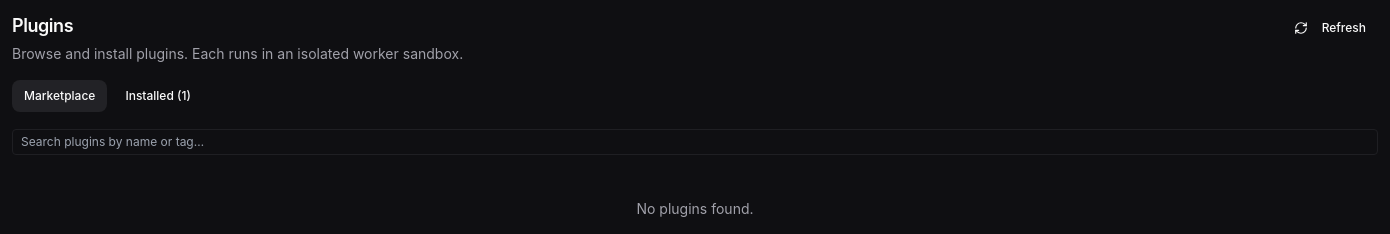
Installed tab lists installed plugins and supports uninstall
This screenshot has width=1390, height=234.
Click the button "Installed (1)" at (158, 96), box [113,80,203,112]
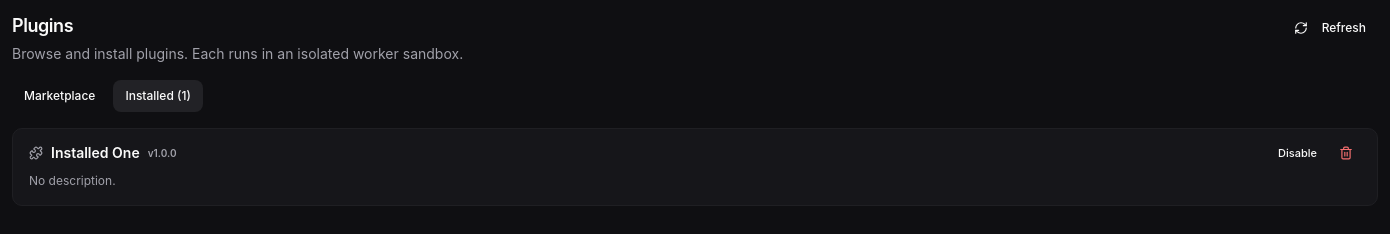
Now the text "Installed One" is shown, box [51,144,140,161]
Now the button named "Uninstall Installed One" is shown, box [1331,141,1361,165]
